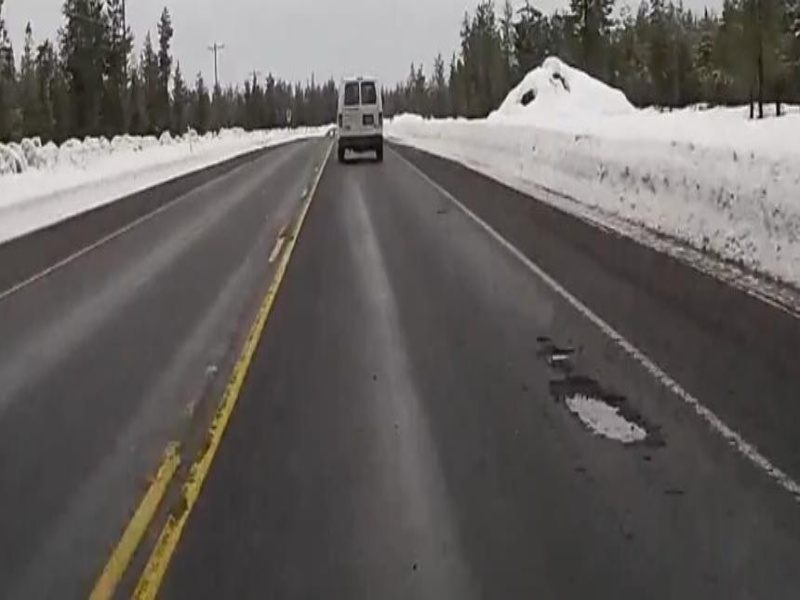pothole: (546, 375, 666, 454), (530, 340, 573, 366)
